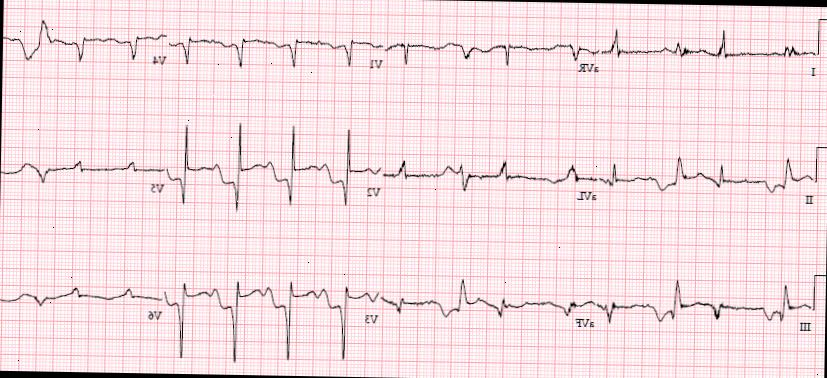Lead_I: (599, 22, 819, 86)
Lead_II: (598, 145, 816, 210)
Lead_III: (596, 270, 815, 346)
Lead_V1: (167, 18, 386, 79)
Lead_V2: (165, 113, 384, 214)
Lead_V3: (162, 268, 382, 366)
Lead_V4: (2, 12, 169, 77)
Lead_V5: (0, 146, 166, 210)
Lead_V6: (0, 278, 164, 328)
Lead_aVF: (379, 282, 596, 340)
Lead_aVL: (381, 144, 599, 208)
Lead_aVR: (384, 19, 600, 85)
